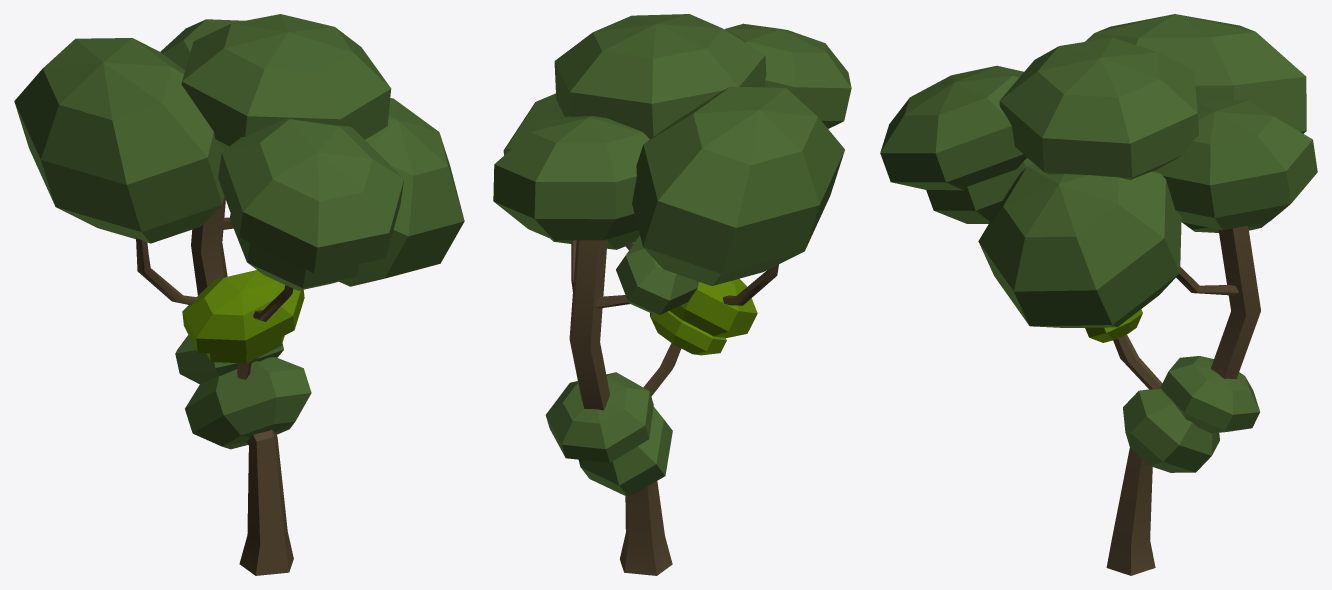
The model's file is LeafTreeBent.fbx.
3 views of the same model, side by side, from view 1: azimuth 30°, elevation 25°; view 2: azimuth 150°, elevation 25°; view 3: azimuth 270°, elevation 25° (orthographic). The views are drawn at different scales.
Parts seen in each view (by area): view 1: pSphere8, pSphere6, pSphere9, pSphere4, pSphere10, pCylinder1, pSphere2, pSphere14, pSphere11, pSphere7, pCylinder7, pSphere12; view 2: pSphere8, pSphere9, pSphere7, pCylinder1, pSphere11, pSphere6, pSphere10, pSphere13, pSphere2, pSphere12, pSphere4, pCylinder7 (+1 smaller); view 3: pSphere4, pSphere9, pSphere7, pSphere6, pSphere8, pCylinder1, pSphere10, pSphere11, pSphere14, pCylinder2, pSphere12, pCylinder3.
Boxes of the visible parts, <box> form: pSphere8: <box>14,38,224,243</box>; pSphere6: <box>218,118,403,272</box>; pSphere9: <box>181,14,391,149</box>; pSphere4: <box>339,98,464,286</box>; pSphere10: <box>185,357,311,449</box>; pCylinder1: <box>191,196,293,575</box>; pSphere2: <box>182,270,304,354</box>; pSphere14: <box>230,214,358,290</box>; pSphere11: <box>175,335,283,384</box>; pSphere7: <box>160,19,244,70</box>; pCylinder7: <box>136,238,198,304</box>; pSphere12: <box>206,335,284,363</box>; pSphere8: <box>632,86,844,285</box>; pSphere9: <box>554,14,766,138</box>; pSphere7: <box>493,115,649,240</box>; pCylinder1: <box>569,239,672,575</box>; pSphere11: <box>545,372,653,462</box>; pSphere6: <box>724,23,851,128</box>; pSphere10: <box>578,407,672,497</box>; pSphere13: <box>616,235,698,314</box>; pSphere2: <box>669,278,757,337</box>; pSphere12: <box>650,311,726,355</box>; pSphere4: <box>503,93,639,249</box>; pCylinder7: <box>723,264,778,305</box>; pSphere4: <box>978,164,1181,327</box>; pSphere9: <box>999,37,1198,179</box>; pSphere7: <box>1155,100,1317,230</box>; pSphere6: <box>880,65,1027,190</box>; pSphere8: <box>1085,14,1306,133</box>; pCylinder1: <box>1106,225,1260,575</box>; pSphere10: <box>1123,389,1219,472</box>; pSphere11: <box>1160,356,1259,433</box>; pSphere14: <box>926,158,1033,223</box>; pCylinder2: <box>1113,334,1162,389</box>; pSphere12: <box>1085,309,1142,342</box>; pCylinder3: <box>1176,267,1238,295</box>.
Bounding box in the file's own units: 30.2 × 42.73 × 33.34.
